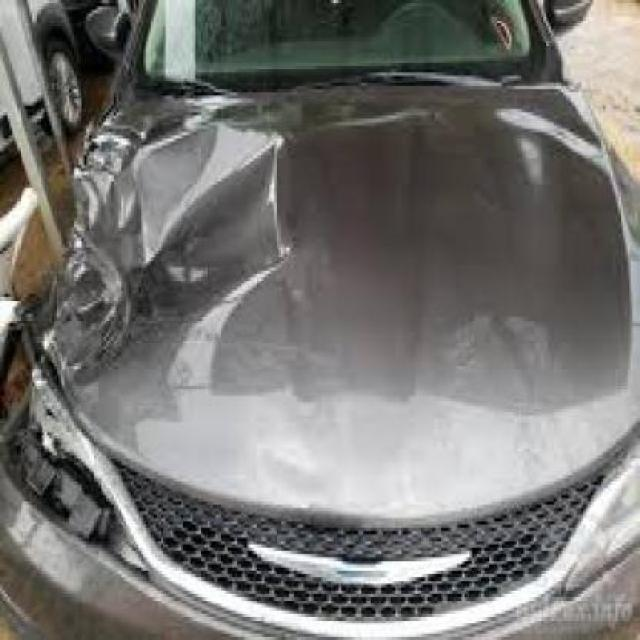damaged-hood: (67, 70, 638, 484)
